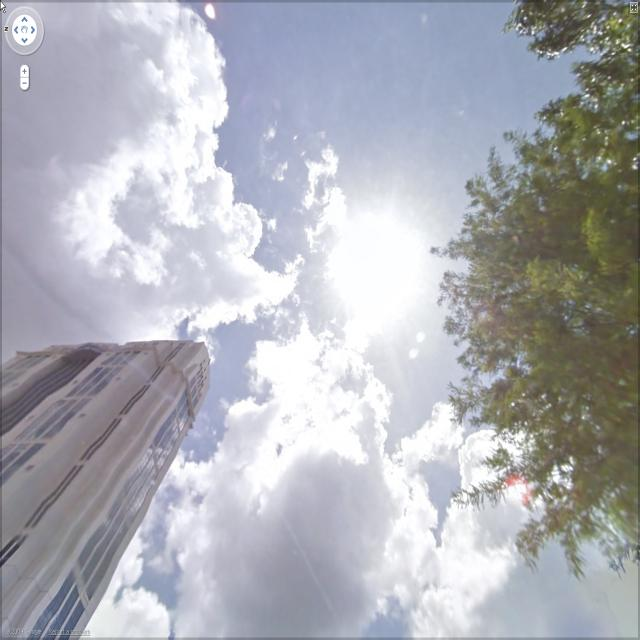b_1: (5, 339, 215, 640)
